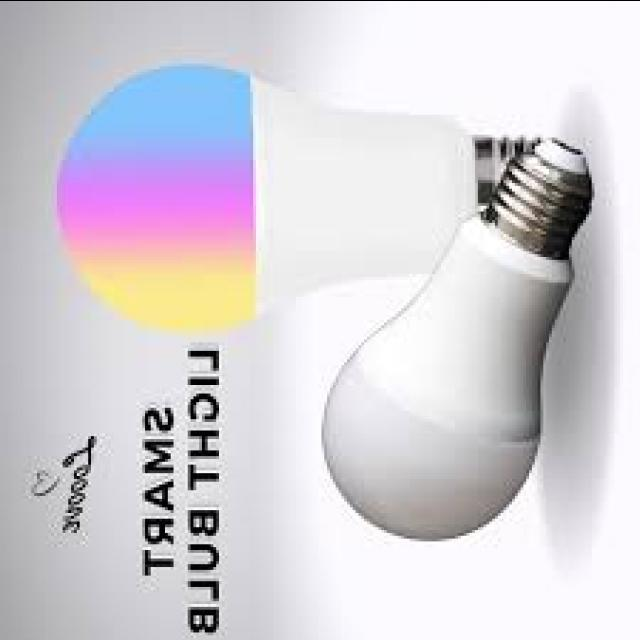light_bulb: (40, 59, 576, 337), (280, 126, 614, 550)
